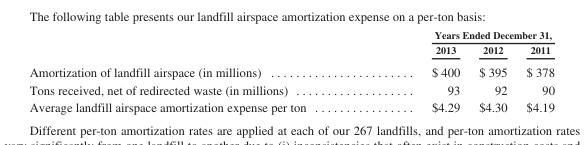table: (28, 28, 553, 114)
table column: (28, 28, 368, 114), (368, 28, 468, 114), (468, 28, 516, 114), (516, 28, 553, 114)
table column header: (28, 28, 553, 60)
table row: (28, 60, 553, 80), (28, 42, 553, 60), (28, 80, 553, 98), (28, 98, 553, 114), (28, 28, 553, 42)
table spanning cell: (368, 28, 553, 42)
